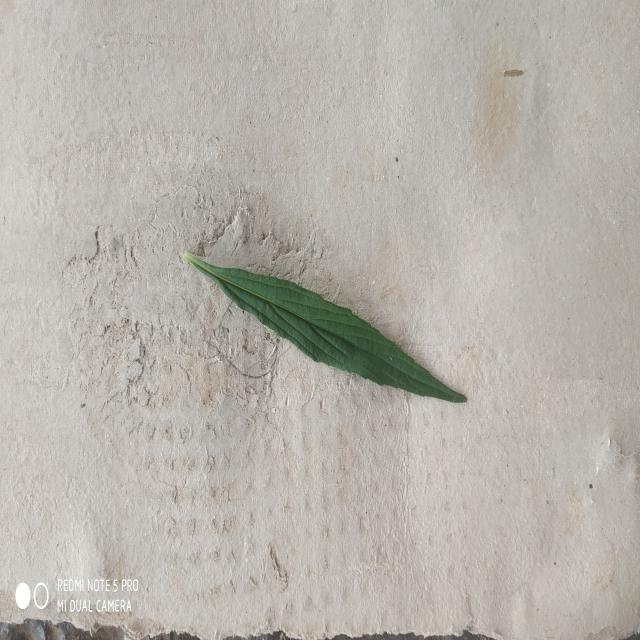thambe: (185, 253, 466, 402)
